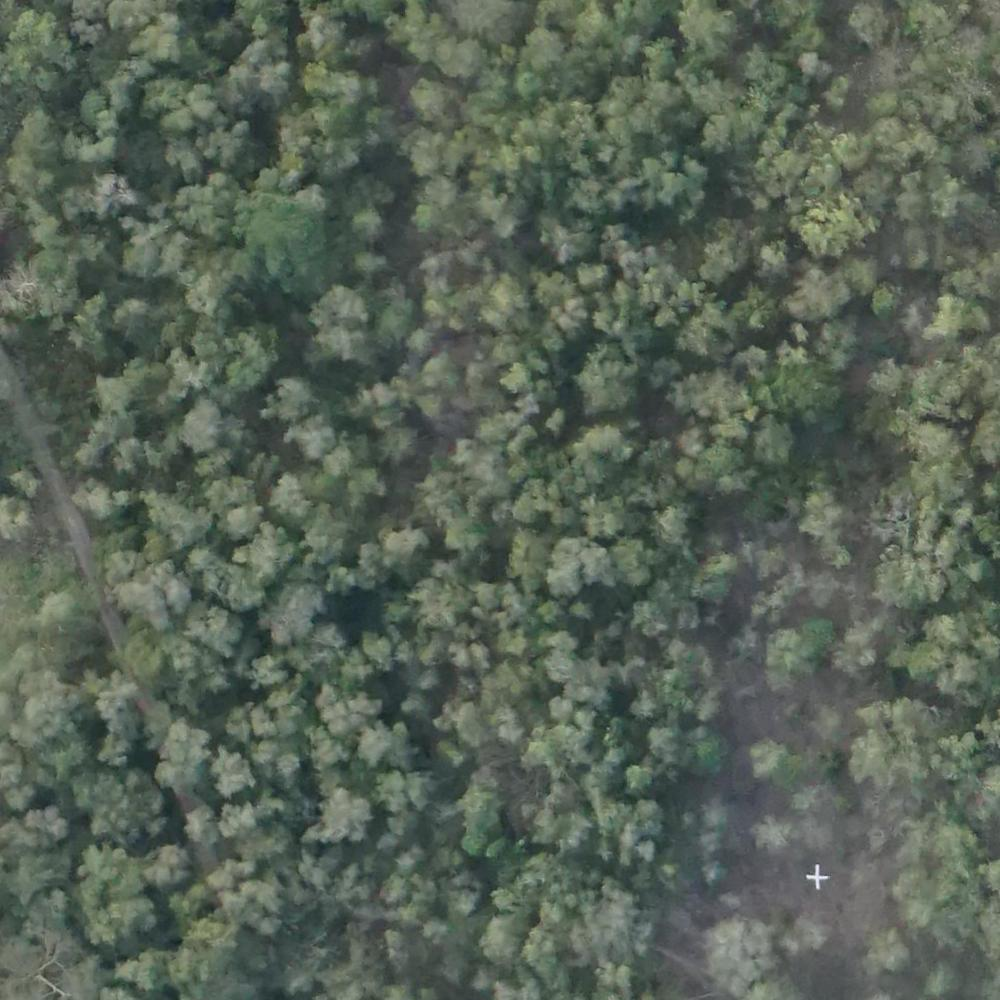tree: (231, 166, 326, 283), (856, 696, 935, 782), (87, 368, 161, 450), (103, 553, 183, 625), (3, 12, 75, 92), (518, 106, 596, 177), (800, 189, 867, 266), (303, 279, 363, 361), (83, 777, 149, 846), (253, 570, 320, 637), (231, 519, 296, 586), (126, 210, 189, 275), (706, 918, 773, 979), (790, 258, 854, 321), (204, 474, 260, 540), (405, 569, 471, 625), (644, 156, 703, 217), (314, 684, 378, 738), (676, 1, 740, 55), (547, 539, 609, 593), (769, 619, 819, 685), (390, 1, 447, 58), (575, 430, 634, 485), (571, 651, 620, 717), (401, 129, 461, 181), (203, 479, 263, 531), (176, 402, 228, 460), (474, 281, 528, 335), (199, 749, 257, 799), (245, 42, 297, 95), (231, 330, 285, 381), (677, 727, 730, 777), (130, 839, 187, 885), (583, 352, 632, 405), (320, 794, 370, 845), (701, 231, 748, 284), (749, 810, 793, 864), (761, 737, 808, 785), (285, 415, 338, 457), (157, 722, 204, 768), (21, 810, 76, 849), (31, 593, 82, 635), (110, 299, 157, 343), (523, 925, 563, 976), (71, 483, 120, 524), (85, 171, 129, 215), (378, 530, 423, 573), (847, 1, 893, 43), (216, 800, 258, 844), (755, 421, 799, 462), (91, 670, 130, 715), (454, 37, 491, 84), (1, 503, 43, 544), (460, 810, 499, 853), (532, 271, 580, 305), (702, 116, 741, 157), (653, 513, 692, 553), (412, 78, 448, 121), (413, 208, 456, 243), (186, 273, 220, 316), (930, 295, 968, 333), (832, 132, 872, 168), (376, 417, 415, 453), (425, 353, 458, 395), (620, 764, 655, 801), (578, 261, 613, 291), (355, 209, 387, 241), (189, 84, 220, 117), (346, 474, 378, 503)
